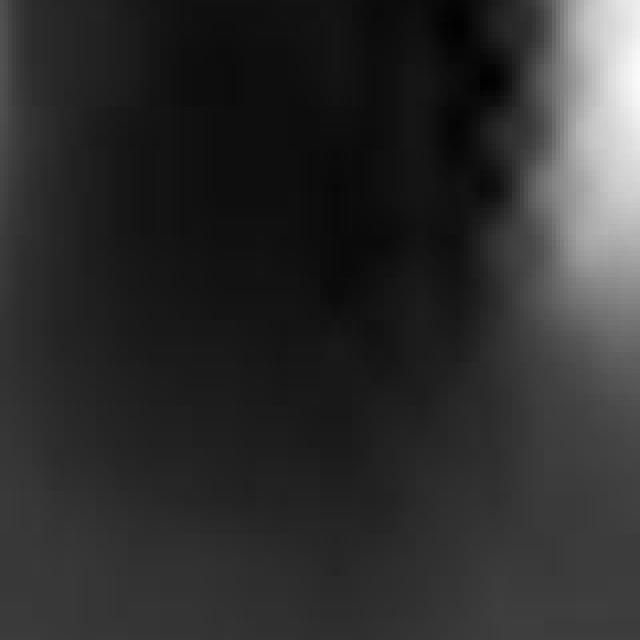person: (521, 1, 640, 369)
